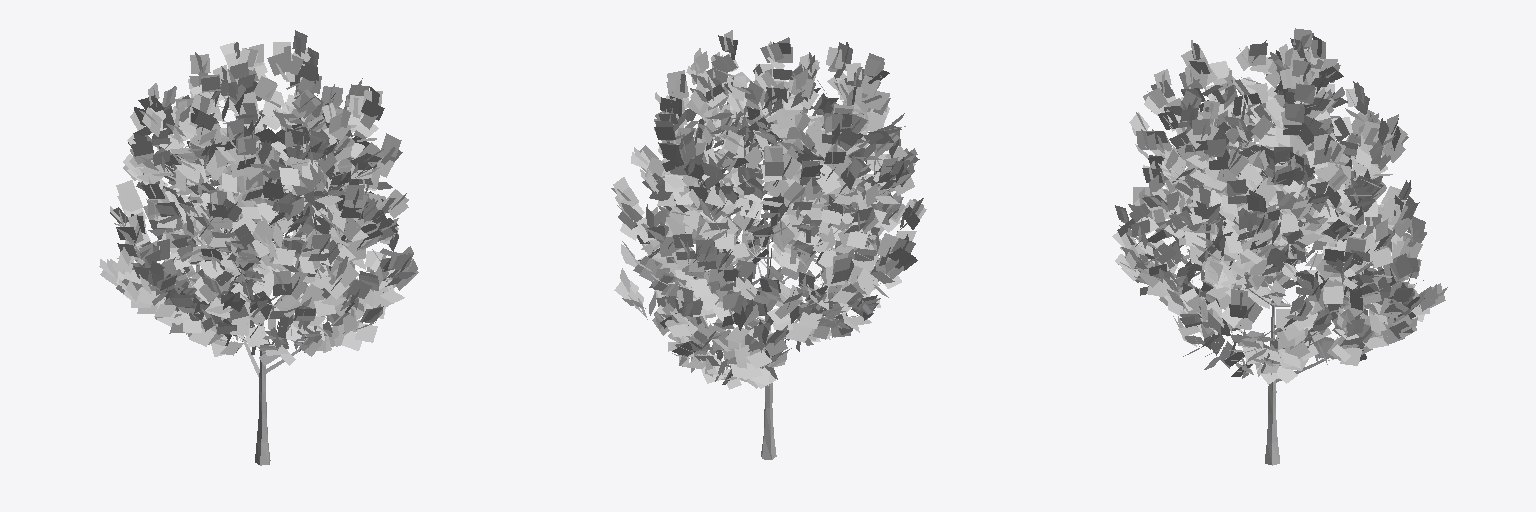
The model's file is arbre.obj.
The picture shows the model from 3 angles: view 1: azimuth 30°, elevation 25°; view 2: azimuth 150°, elevation 25°; view 3: azimuth 270°, elevation 25°; orthographic projection.
Parts seen in each view (by area): view 1: Material2.448; view 2: Material2.448; view 3: Material2.448.
Part boxes in pixels (x1,y1,x2,y2): Material2.448: (99,30,418,465); Material2.448: (611,30,926,459); Material2.448: (1112,28,1447,465).
Bounding box in the file's own units: 239 × 325 × 242.